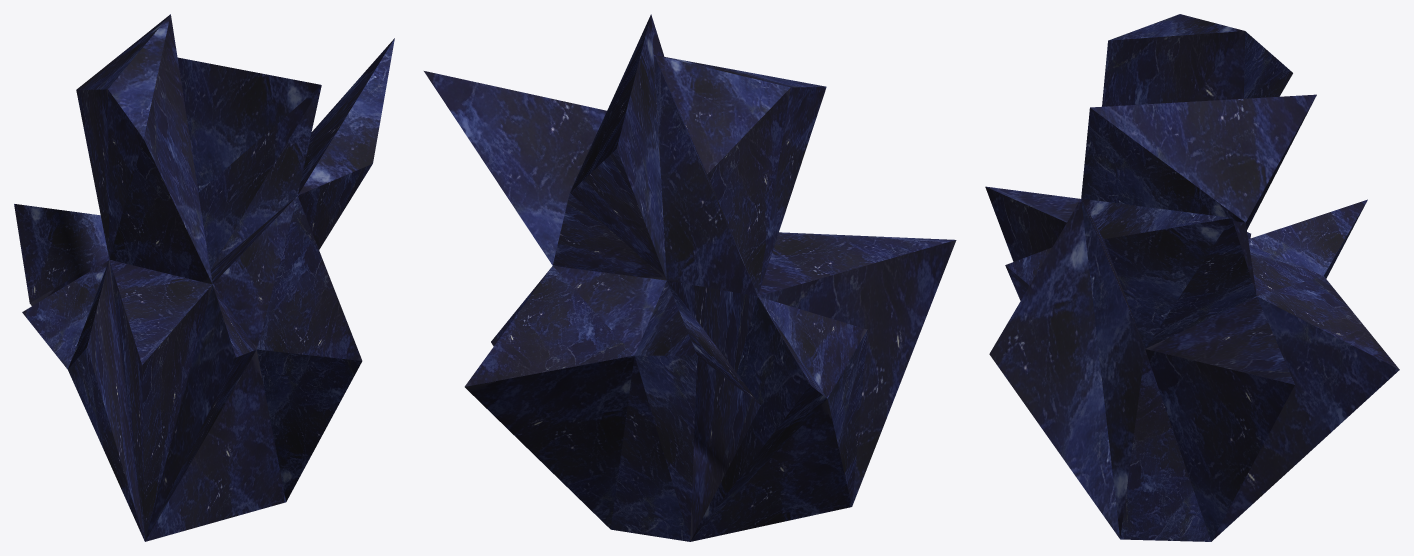
Rendered from Sodalite_Crystal.obj.
3 renders of one model, left to right at view 1: azimuth 30°, elevation 25°; view 2: azimuth 150°, elevation 25°; view 3: azimuth 270°, elevation 25°, orthographic. The views are drawn at different scales.
Parts seen in each view (by area): view 1: Sodalite_Crystal; view 2: Sodalite_Crystal; view 3: Sodalite_Crystal.
Boxes of the visible parts, x1,y1,x2,y2 form: Sodalite_Crystal: (14,14,394,541); Sodalite_Crystal: (424,14,956,541); Sodalite_Crystal: (985,14,1399,541).
Bounding box in the file's own units: 6.95 × 8.25 × 6.43.
